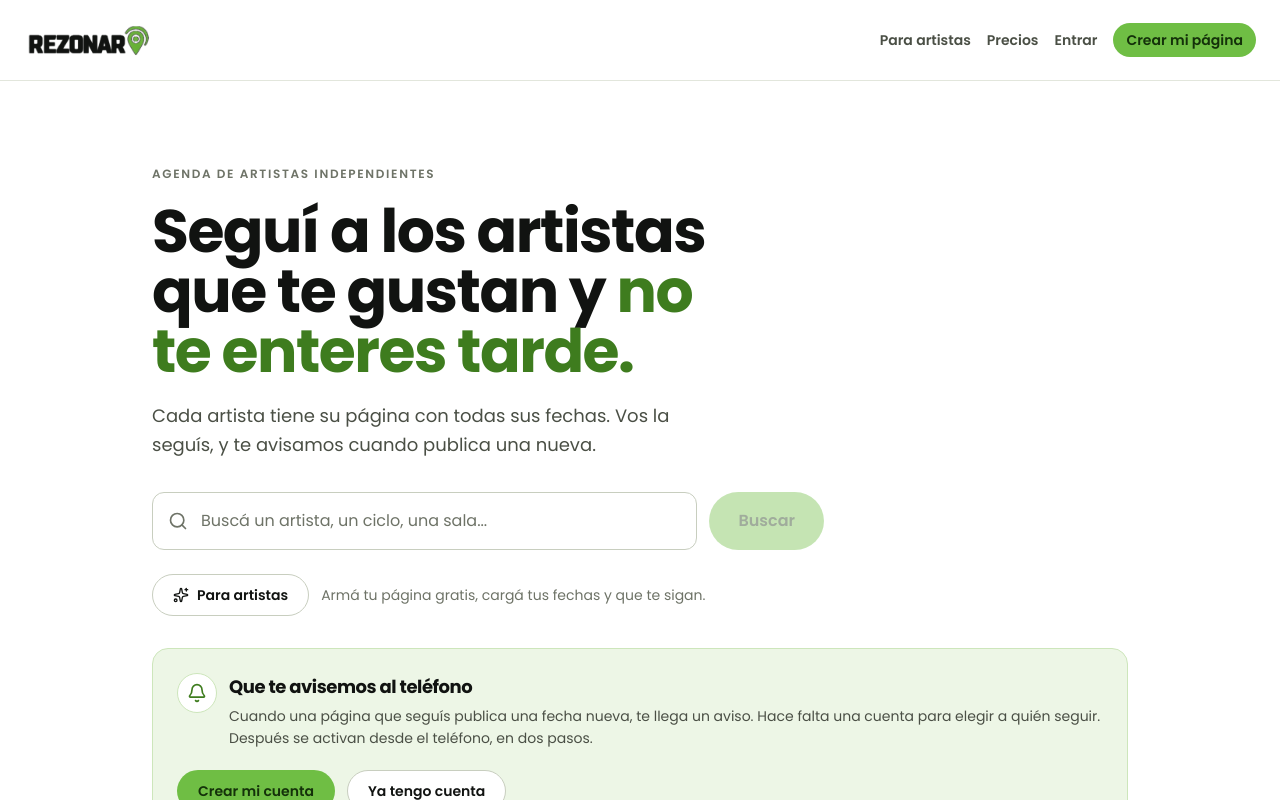
Test: Home › buscador › muestra los resultados de tipo página
Type "rock" into the search field with placeholder "Buscá un artista, un ciclo, una sala..." at (425, 520), box [152,492,698,550]
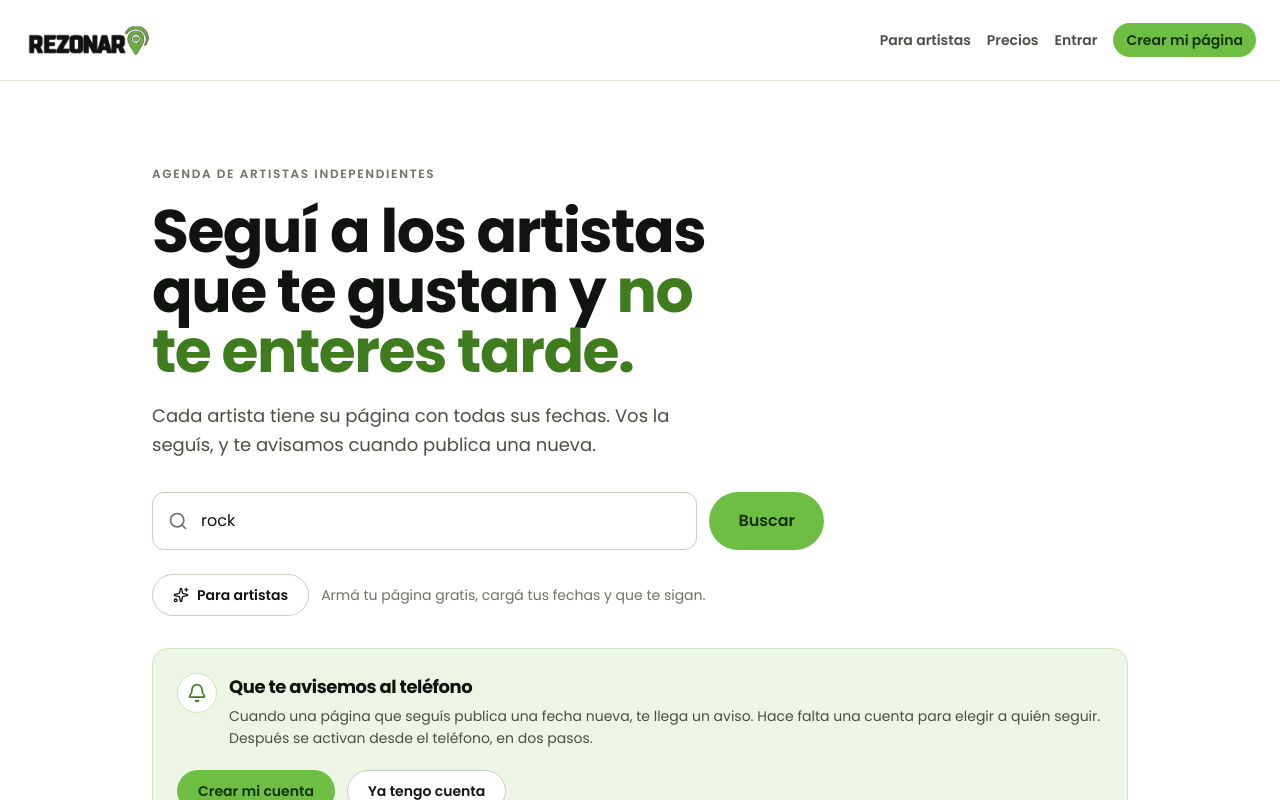
Click the button "Buscar" at (767, 520), box [710,492,824,550]
(page scrolled)
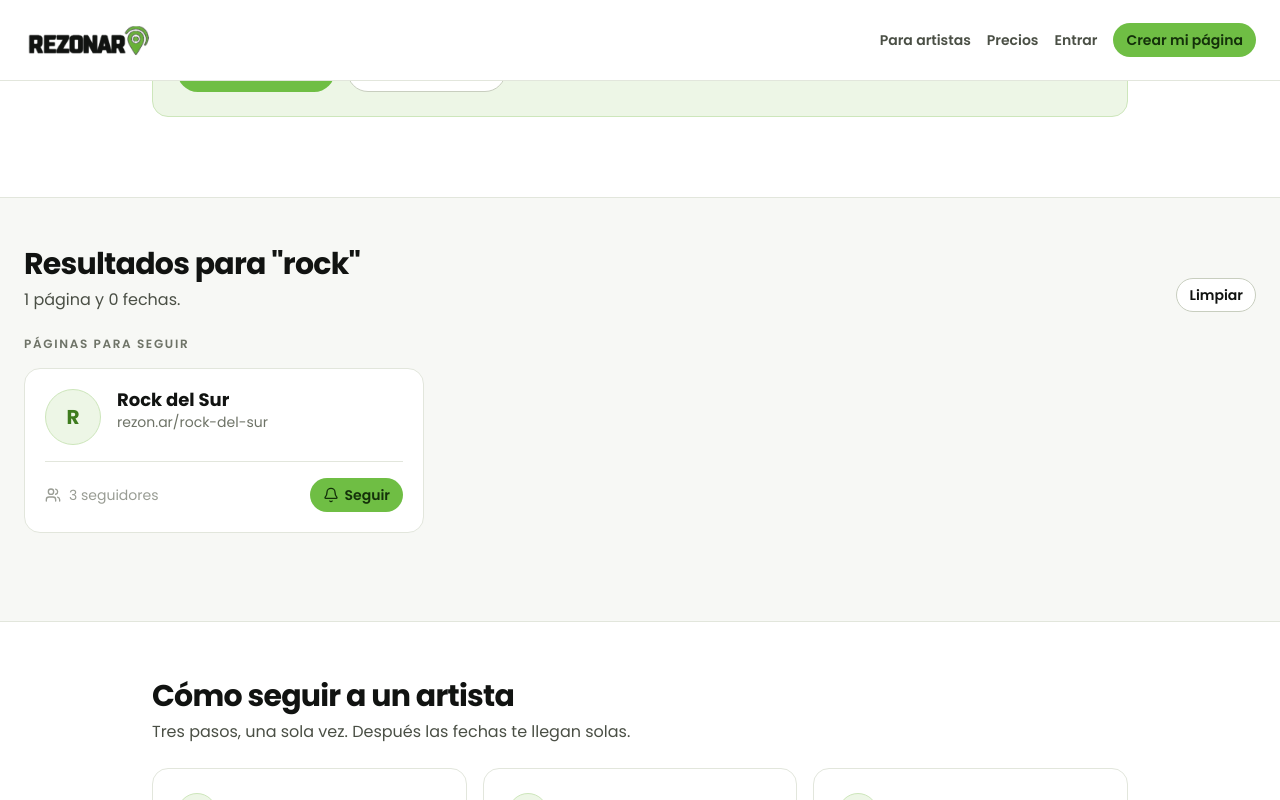
expect the text "Rock del Sur" is shown: met, box [117,389,229,412]
